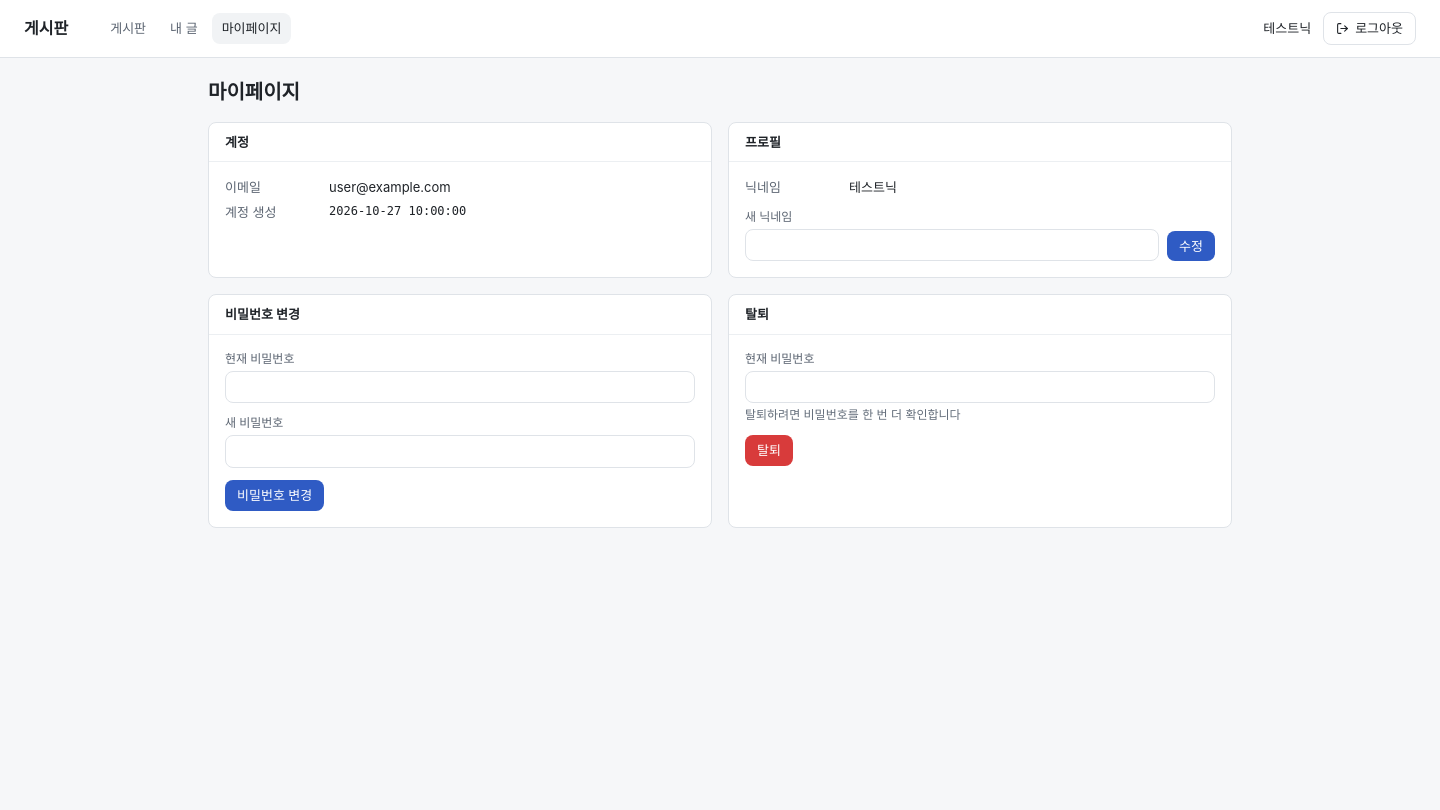
Test: 화면마다 보이는 문구 › 마이페이지 — 탈퇴, 프로필 탈퇴를 마치지 못함 — 검사 목록에 걸리는 것이 없다
The width and height of the screenshot is (1440, 810).
expect the element that starts with "마이페이지" shows "user@example.com": met, box [329, 179, 451, 195]
In the 2nd password field labelled "현재 비밀번호": (980, 387) [745, 371, 1215, 403], type "Passw0rd!"
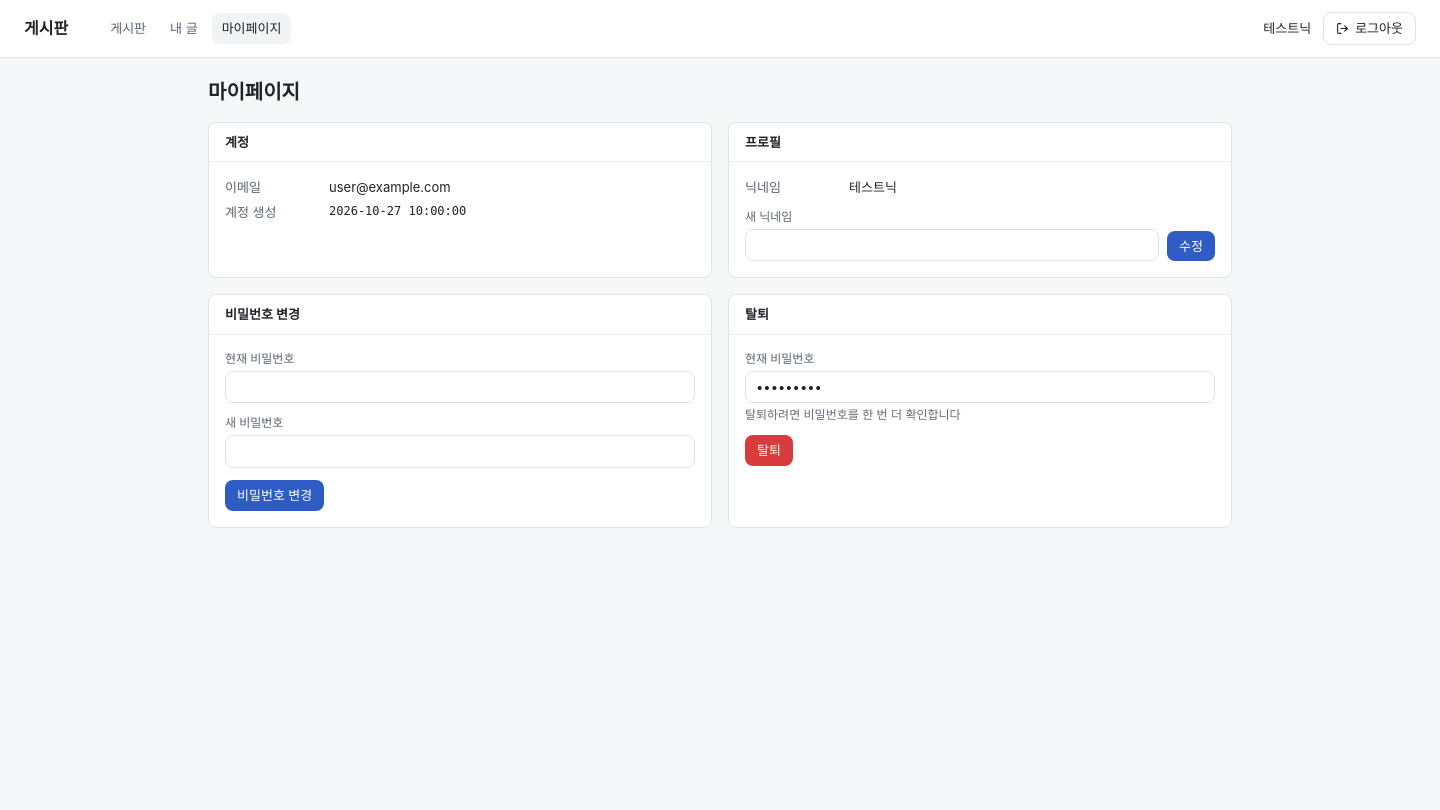
Submit the form "현재 비밀번호 탈퇴하려면 비밀번호를 한 번 더 확인합니다 탈퇴", box [745, 351, 1215, 466]
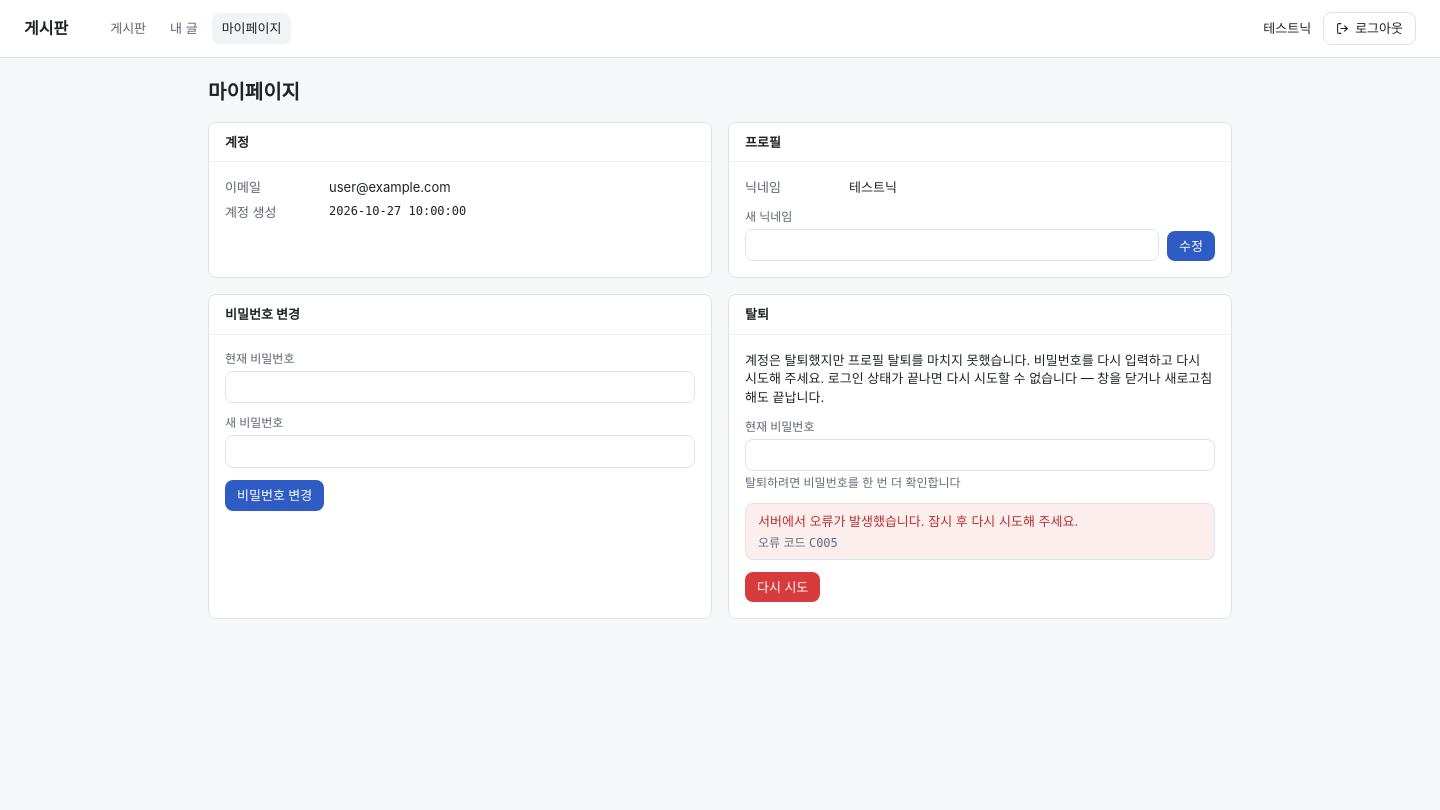
expect the button "다시 시도" is shown: met, box [745, 572, 820, 602]
expect the element showing "서버에서 오류가 발생했습니다. 잠시 후 다시 시도해 주세요. 오류 코드 C005" is shown: met, box [745, 503, 1215, 560]
